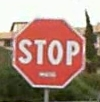stop: (10, 16, 86, 87)
